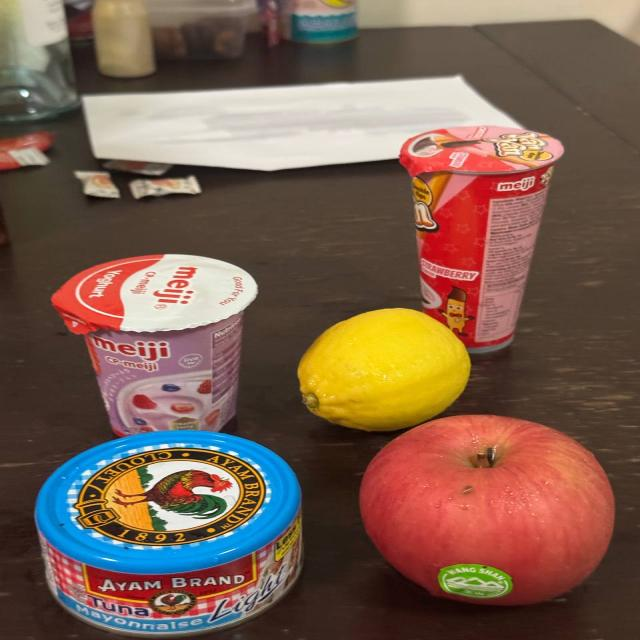apple: (345, 402, 631, 606)
lemon: (285, 300, 482, 436)
tuna-can: (26, 423, 316, 640)
yanyan-cracker: (392, 108, 583, 354)
yogurt: (50, 247, 268, 437)
